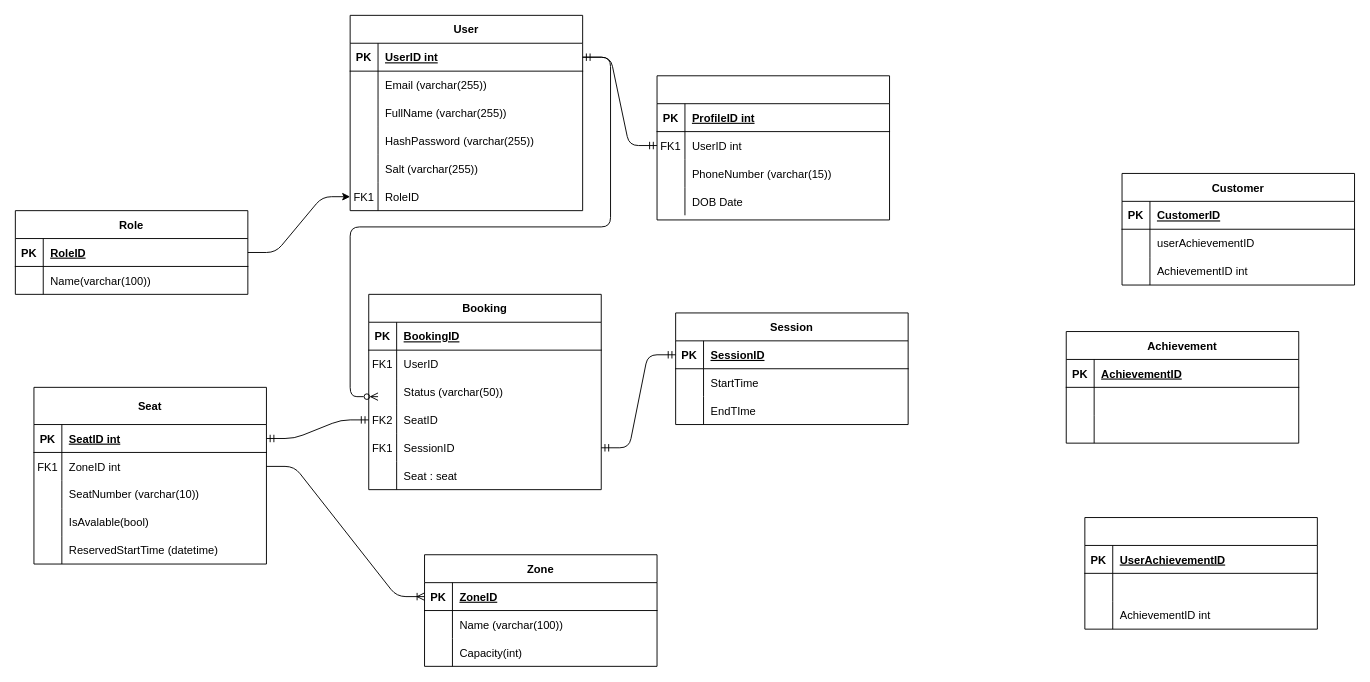
The diagram is 1370 pixels wide and 682 high, and some of its shapes have lost their labels. Here are the shapes that lost their labels. From the top down, the box of each, then its label:
(656, 75, 890, 220): UserProfile
(1084, 517, 1317, 629): UserAchievementManager
